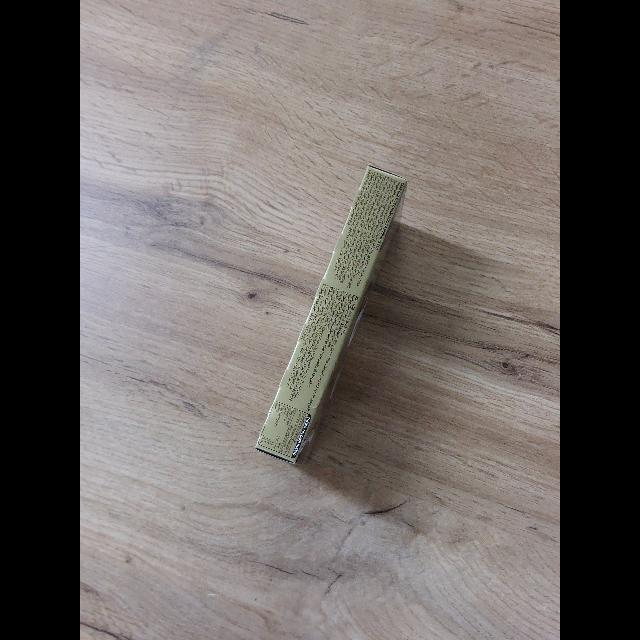banh_toppo_socola: (255, 166, 407, 467)
